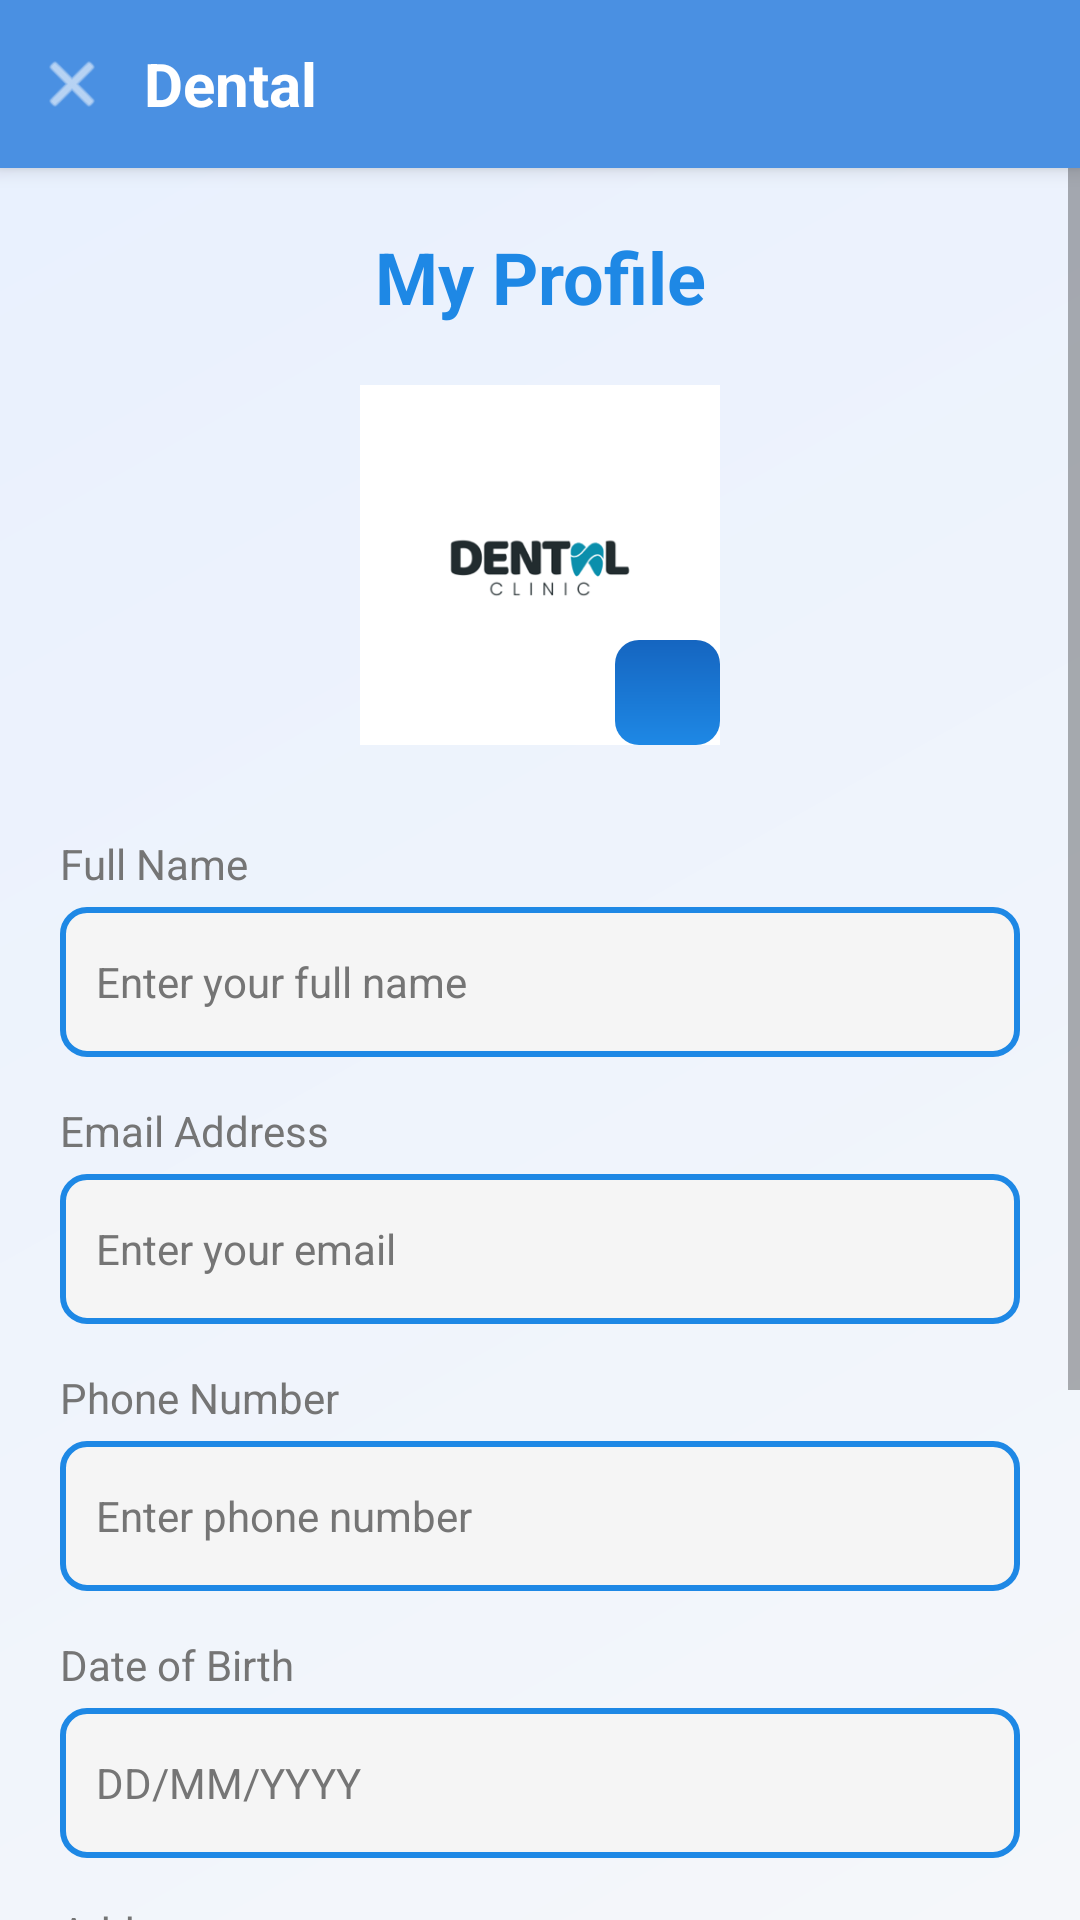

Where to tap for icons on this 1080px x 1920px app screen, as point (x, y):
Close: point (72, 84)
